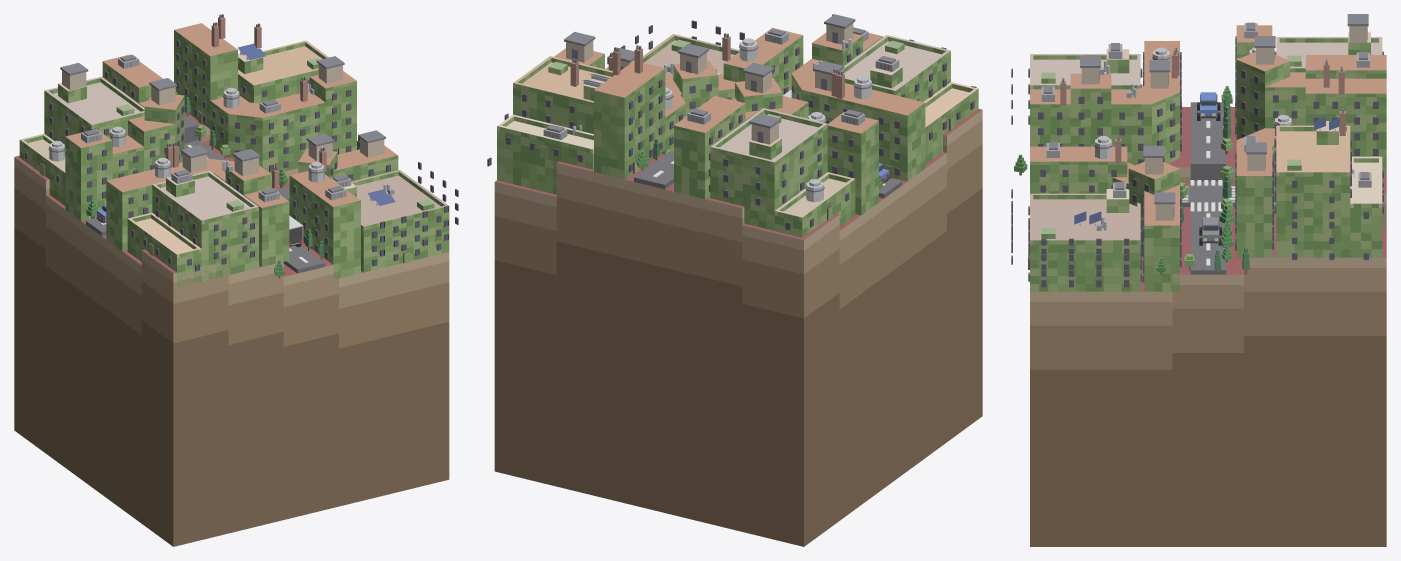
Rendered from block_14_greenfacade_70.glb.
3 views of the same model, side by side, from view 1: azimuth 30°, elevation 25°; view 2: azimuth 150°, elevation 25°; view 3: azimuth 270°, elevation 25° (orthographic). The views are drawn at different scales.
Parts seen in each view (by area): view 1: Patch_MidRight_b14_GF, Cerda_MidRight_b14_GF, Insets_MidRight_b14_GF, CerdaRoofProps_MidRight_b14_GF, Roads_MidRight_b14_GF; view 2: Patch_MidRight_b14_GF, Insets_MidRight_b14_GF, Cerda_MidRight_b14_GF, CerdaRoofProps_MidRight_b14_GF, Roads_MidRight_b14_GF; view 3: Patch_MidRight_b14_GF, Cerda_MidRight_b14_GF, Insets_MidRight_b14_GF, CerdaRoofProps_MidRight_b14_GF, Roads_MidRight_b14_GF, Asset_Car.029_GF, Asset_Car.028_GF, Zebra_MidRight_b14_GF.
Part boxes in pixels (left/top/right/bottom): Patch_MidRight_b14_GF: left=14, top=112, right=449, bottom=546; Cerda_MidRight_b14_GF: left=65, top=23, right=398, bottom=279; Insets_MidRight_b14_GF: left=19, top=40, right=458, bottom=287; CerdaRoofProps_MidRight_b14_GF: left=48, top=14, right=395, bottom=205; Roads_MidRight_b14_GF: left=86, top=115, right=324, bottom=273; Patch_MidRight_b14_GF: left=494, top=109, right=982, bottom=546; Insets_MidRight_b14_GF: left=487, top=20, right=978, bottom=237; Cerda_MidRight_b14_GF: left=554, top=27, right=925, bottom=215; CerdaRoofProps_MidRight_b14_GF: left=543, top=14, right=899, bottom=202; Roads_MidRight_b14_GF: left=634, top=150, right=902, bottom=198; Patch_MidRight_b14_GF: left=1030, top=107, right=1386, bottom=546; Cerda_MidRight_b14_GF: left=1030, top=25, right=1386, bottom=291; Insets_MidRight_b14_GF: left=1011, top=32, right=1383, bottom=291; CerdaRoofProps_MidRight_b14_GF: left=1041, top=14, right=1371, bottom=230; Roads_MidRight_b14_GF: left=1182, top=102, right=1234, bottom=274; Asset_Car.029_GF: left=1197, top=92, right=1220, bottom=120; Asset_Car.028_GF: left=1199, top=217, right=1222, bottom=245; Zebra_MidRight_b14_GF: left=1182, top=180, right=1235, bottom=211.
Size of the model in its own units: 10 by 12.66 by 10.
